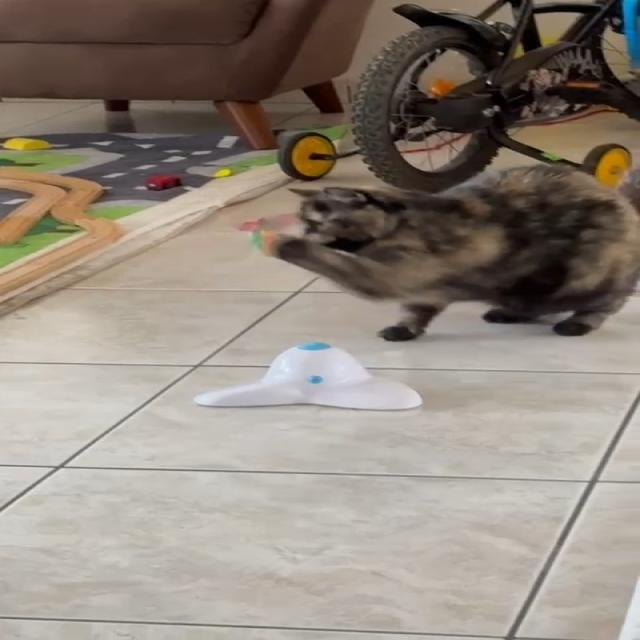authorized: (257, 159, 639, 341)
